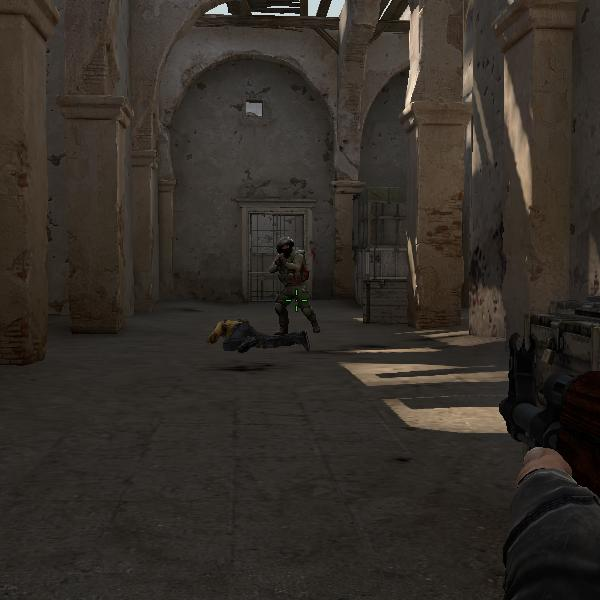ct_body: (266, 235, 322, 337)
ct_head: (275, 235, 294, 260)
